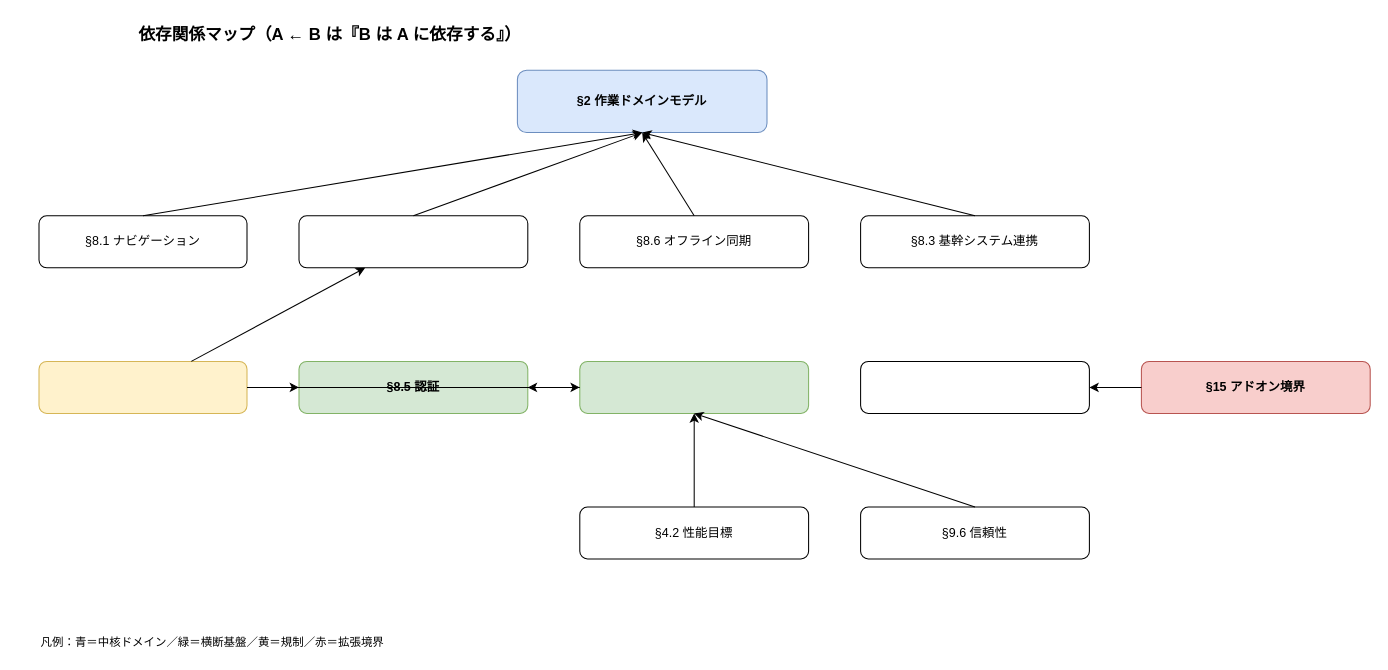
The diagram is 1388 pixels wide and 670 high, and some of its shapes have lost their labels. The shapes that lost their labels are listed below. From the top down, each one's box as (x1, y1, x2, y2) in pixels, then its label:
(298, 215, 528, 268): §8.2 マスタ／フロー設定
(38, 360, 247, 413): §10 規制適合
(579, 360, 809, 413): §14 観測性・監査ログ
(860, 360, 1089, 413): §9.4 セキュリティ
